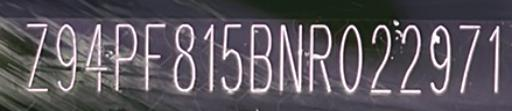letter: (78, 21, 108, 92), (108, 21, 138, 92), (138, 22, 168, 93), (168, 22, 198, 93), (275, 23, 305, 94), (364, 24, 394, 95), (394, 24, 424, 95), (22, 20, 50, 93), (246, 21, 274, 94), (306, 23, 334, 94), (52, 21, 78, 92), (336, 24, 362, 95), (426, 24, 452, 95), (480, 24, 504, 97), (220, 23, 244, 94), (454, 24, 478, 95), (200, 22, 218, 93)
